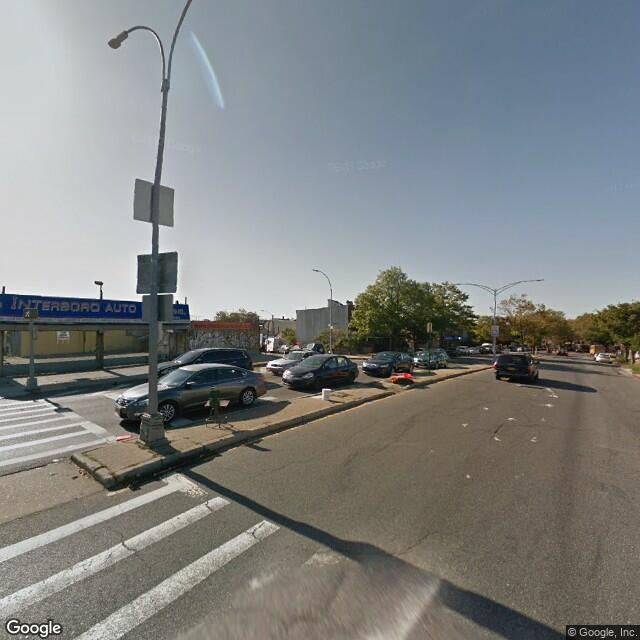litter: (204, 384, 236, 434), (382, 375, 422, 383), (322, 386, 334, 408)
